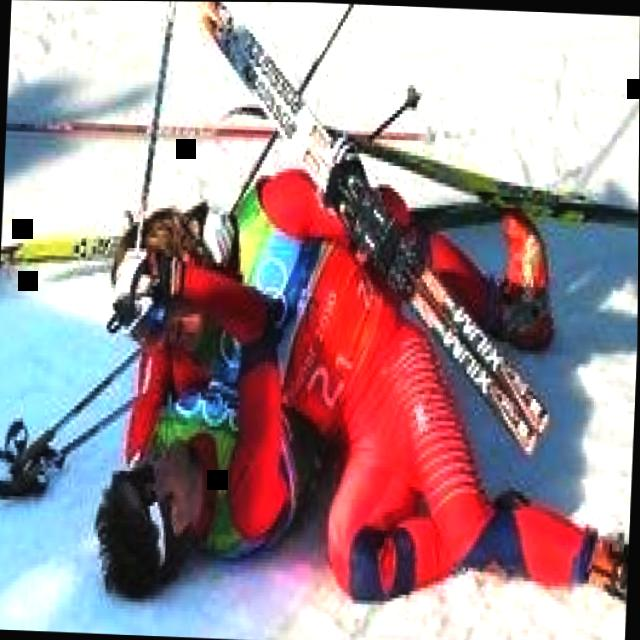Fall-Detected: (83, 134, 639, 628)
